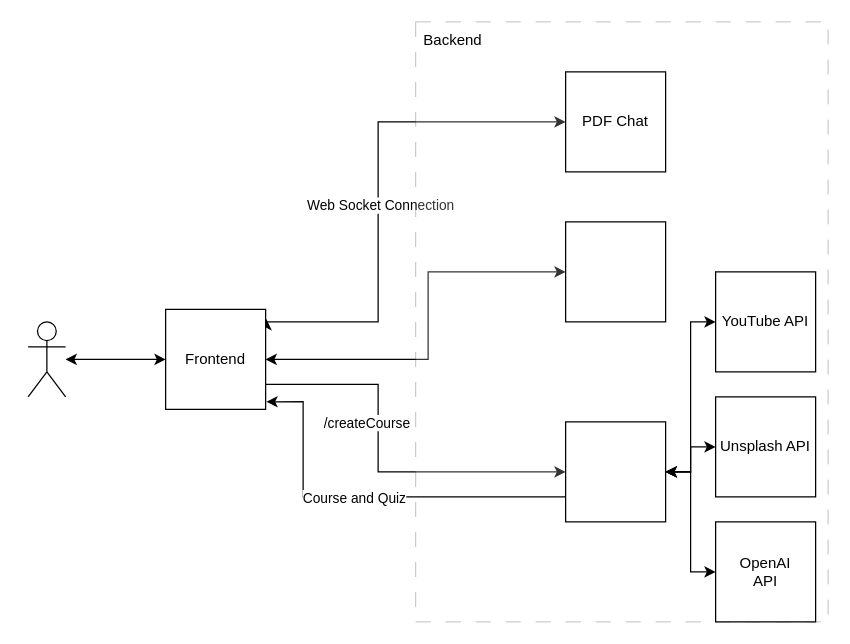
The diagram is 850 pixels wide and 644 high, and some of its shapes have lost their labels. Here are the shapes that lost their labels. From the top down, the centre of each, then its label:
pixel 615 271: Doubt Forum
pixel 46 359: Student
pixel 615 471: Create Course Handler
